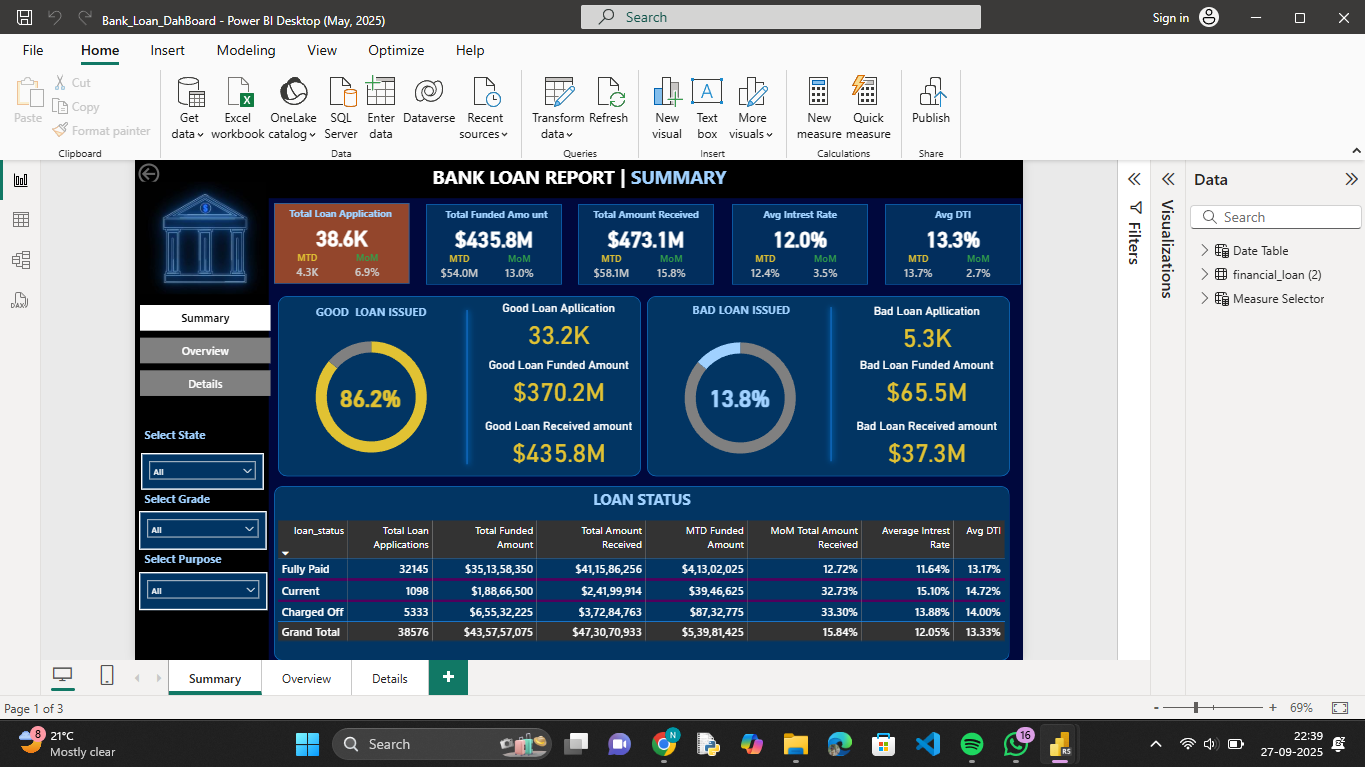

The page's visual inventory and layout, read from the dashboard file:
{"tool":"powerbi","page":{"name":"Summary","canvas":[1280,720],"ordinal":0},"visuals":[{"type":"shape","box":[199.7,62.5,195,116.3],"z":0,"group":"g1"},{"type":"shape","box":[418.8,63,195.5,116.4],"z":0,"group":"g2"},{"type":"shape","box":[637.6,63,195.5,116.4],"z":0,"group":"g4"},{"type":"shape","box":[859.6,63,195.5,116.4],"z":0,"group":"g5"},{"type":"shape","box":[1080.1,63,195.5,116.4],"z":0,"group":"g6"},{"type":"shape","box":[206.2,195.2,522.7,259.8],"z":0},{"type":"shape","box":[0,0,1279.8,55],"z":1000},{"type":"textbox","box":[426.3,63,188.6,28.8],"z":1000,"group":"g2"},{"type":"textbox","box":[638.1,63,195.8,30.2],"z":1000,"group":"g4"},{"type":"textbox","box":[860.1,63,195.8,30.2],"z":1000,"group":"g5"},{"type":"textbox","box":[1080,63,195.8,28.8],"z":1000,"group":"g6"},{"type":"textbox","box":[197.2,63.2,197.3,28.8],"z":1000,"group":"g1"},{"type":"shape","box":[0,54.6,192.6,665.8],"z":2000},{"type":"card","fields":{"Values":["financial_loan (2).Total Loan Applications"]},"box":[199.7,90.8,195,40.2],"z":2000,"group":"g1"},{"type":"card","fields":{"Values":["financial_loan (2).Total Funded Amount"]},"box":[418.8,91.4,195.5,40.3],"z":2000,"group":"g2"},{"type":"card","fields":{"Values":["financial_loan (2).Total Amount Received"]},"box":[637.6,91.4,195.5,40.3],"z":2000,"group":"g4"},{"type":"card","fields":{"Values":["financial_loan (2).Average Intrest Rate"]},"box":[859.6,91.4,195.5,40.3],"z":2000,"group":"g5"},{"type":"card","fields":{"Values":["financial_loan (2).Avg DTI"]},"box":[1080.1,91.4,195.5,40.3],"z":2000,"group":"g6"},{"type":"textbox","box":[401.9,0,476.2,50],"z":3000},{"type":"card","title":"MTD","fields":{"Values":["financial_loan (2).MTD Loan Application"]},"box":[211.6,131.1,72.9,47.7],"z":3000,"group":"g1"},{"type":"card","title":"MTD","fields":{"Values":["financial_loan (2).MTD Funded Amount"]},"box":[430.7,131.7,73.1,47.8],"z":3000,"group":"g2"},{"type":"card","title":"MTD","fields":{"Values":["financial_loan (2).MTD Total Amount Received"]},"box":[649.5,131.7,73.1,47.8],"z":3000,"group":"g4"},{"type":"card","title":"MTD","fields":{"Values":["financial_loan (2).MTD Avg Intrest Rate"]},"box":[871.5,131.7,73.1,47.8],"z":3000,"group":"g5"},{"type":"card","title":"MTD","fields":{"Values":["financial_loan (2).MTD Avg DTI"]},"box":[1092,131.7,73.1,47.8],"z":3000,"group":"g6"},{"type":"group","id":"g1","title":"Group 2","box":[197.2,62.5,197.5,116.3],"z":4000},{"type":"card","title":"MoM","fields":{"Values":["financial_loan (2).MOM Loan Application"]},"box":[297.9,131.1,72.9,47.7],"z":4000,"group":"g1"},{"type":"card","title":"MoM","fields":{"Values":["financial_loan (2).MoM Total Funded Amount"]},"box":[517.3,131.7,73.1,47.8],"z":4000,"group":"g2"},{"type":"card","title":"MoM","fields":{"Values":["financial_loan (2).MoM Total Amount Received"]},"box":[736.1,131.7,73.1,47.8],"z":4000,"group":"g4"},{"type":"card","title":"MoM","fields":{"Values":["financial_loan (2).MoM Avg Intrest Rate"]},"box":[958.1,131.7,73.1,47.8],"z":4000,"group":"g5"},{"type":"card","title":"MoM","fields":{"Values":["financial_loan (2).MoM Avg DTI"]},"box":[1178.6,131.7,73.1,47.8],"z":4000,"group":"g6"},{"type":"group","id":"g2","title":"Group 1","box":[418.8,63,196.1,116.4],"z":4001,"group":"g3"},{"type":"group","id":"g3","title":"Group 2","box":[418.8,63,196.1,116.4],"z":5000},{"type":"group","id":"g4","title":"Group 1","box":[637.6,63,196.4,116.4],"z":6000},{"type":"group","id":"g5","title":"Group 1","box":[859.6,63,196.4,116.4],"z":7000},{"type":"group","id":"g6","title":"Group 1","box":[1080,63,195.8,116.4],"z":8000},{"type":"shape","box":[736.8,195.2,522.7,259.8],"z":9000},{"type":"card","fields":{"Values":["Date Table.Good Loan %"]},"box":[272.7,321.3,133.7,39.9],"z":10000},{"type":"donutChart","fields":{"Category":["financial_loan (2).Good vs Bad Loans"],"Y":["financial_loan (2).Total Loan Applications"]},"box":[215.4,236.2,248.4,210.1],"z":11000},{"type":"textbox","box":[213.3,203,254.5,32.4],"z":12000},{"type":"actionButton","box":[0,0,100,40],"z":13000},{"type":"card","title":"Good Loan Apllication","fields":{"Values":["financial_loan (2).Good Loan Application"]},"box":[498.5,203.2,224,72.9],"z":14000},{"type":"card","title":"Good Loan Funded Amount","fields":{"Values":["Date Table.Good Loan Funded Amount"]},"box":[498.5,284.8,224,72.9],"z":15000},{"type":"card","title":"Good Loan Received amount","fields":{"Values":["Date Table.Good Loan Received Amount"]},"box":[498.5,373.4,224,72.9],"z":16000},{"type":"shape","box":[451.6,206.7,52.1,239.7],"z":17000},{"type":"card","fields":{"Values":["Date Table.Bad Loan %"]},"box":[804.1,321.3,133.7,39.9],"z":18000},{"type":"donutChart","fields":{"Category":["financial_loan (2).Good vs Bad Loans"],"Y":["financial_loan (2).Total Loan Applications"]},"box":[746.8,237.9,248.4,210.1],"z":19000},{"type":"textbox","box":[746.8,199.7,251.8,38.2],"z":20000},{"type":"card","title":"Bad Loan Apllication","fields":{"Values":["financial_loan (2).Bad Loan Application"]},"box":[1028.2,206.7,224,72.9],"z":21000},{"type":"card","title":"Bad Loan Funded Amount","fields":{"Values":["Date Table.Bad Loan Funded Amount"]},"box":[1028.2,284.8,224,72.9],"z":22000},{"type":"card","title":"Bad Loan Received amount","fields":{"Values":["Date Table.Bad Loan Received Amount"]},"box":[1028.2,373.4,224,72.9],"z":23000},{"type":"shape","box":[976.1,203.2,52.1,239.7],"z":24000},{"type":"shape","box":[199.7,468.9,1059.4,251.8],"z":25000},{"type":"tableEx","fields":{"Values":["financial_loan (2).loan_status","financial_loan (2).Total Loan Applications","financial_loan (2).Total Funded Amount","financial_loan (2).Total Amount Received","financial_loan (2).MTD Funded Amount","financial_loan (2).MoM Total Amount Received","financial_loan (2).Average Intrest Rate","financial_loan (2).Avg DTI"]},"box":[199.7,514.1,1059.4,187.6],"z":26000},{"type":"textbox","box":[199.7,468.9,1059.4,45.2],"z":27000},{"type":"group","id":"g7","title":"Group 3","box":[6.1,380.7,185,267.4],"z":28000},{"type":"image","box":[0,16.7,192.6,189.6],"z":29000},{"type":"pageNavigator","box":[7.6,209.3,188.1,131.9],"z":30000},{"type":"slicer","fields":{"Values":["financial_loan (2).grade"]},"box":[6.4,505.6,183.5,56.1],"z":33000,"group":"g7"},{"type":"slicer","fields":{"Values":["financial_loan (2).purpose"]},"box":[6.1,593.5,185,54.6],"z":33500,"group":"g7"},{"type":"slicer","fields":{"Values":["financial_loan (2).address_state"]},"box":[8.5,423.1,177.4,53.1],"z":34000,"group":"g7"},{"type":"textbox","box":[9.4,559.5,178.3,33.5],"z":34500,"group":"g7"},{"type":"textbox","box":[8.5,380.7,179,37.9],"z":35000,"group":"g7"},{"type":"textbox","box":[8.5,473.1,179,37.9],"z":35500,"group":"g7"}]}

Visuals, with their boxes on the page's 1280x720 design canvas (x1, y1, x2, y2). These are canvas units, not pixel positions in the 1365x767 screenshot, which may show the page scaled, cropped or inside an application window:
shape: rect(200, 62, 395, 179)
shape: rect(419, 63, 614, 179)
shape: rect(638, 63, 833, 179)
shape: rect(860, 63, 1055, 179)
shape: rect(1080, 63, 1276, 179)
shape: rect(206, 195, 729, 455)
shape: rect(0, 0, 1280, 55)
textbox: rect(426, 63, 615, 92)
textbox: rect(638, 63, 834, 93)
textbox: rect(860, 63, 1056, 93)
textbox: rect(1080, 63, 1276, 92)
textbox: rect(197, 63, 394, 92)
shape: rect(0, 55, 193, 720)
card - financial_loan (2).Total Loan Applications: rect(200, 91, 395, 131)
card - financial_loan (2).Total Funded Amount: rect(419, 91, 614, 132)
card - financial_loan (2).Total Amount Received: rect(638, 91, 833, 132)
card - financial_loan (2).Average Intrest Rate: rect(860, 91, 1055, 132)
card - financial_loan (2).Avg DTI: rect(1080, 91, 1276, 132)
textbox: rect(402, 0, 878, 50)
"MTD" card: rect(212, 131, 284, 179)
"MTD" card: rect(431, 132, 504, 180)
"MTD" card: rect(650, 132, 723, 180)
"MTD" card: rect(872, 132, 945, 180)
"MTD" card: rect(1092, 132, 1165, 180)
"Group 2" group: rect(197, 62, 395, 179)
"MoM" card: rect(298, 131, 371, 179)
"MoM" card: rect(517, 132, 590, 180)
"MoM" card: rect(736, 132, 809, 180)
"MoM" card: rect(958, 132, 1031, 180)
"MoM" card: rect(1179, 132, 1252, 180)
"Group 1" group: rect(419, 63, 615, 179)
"Group 2" group: rect(419, 63, 615, 179)
"Group 1" group: rect(638, 63, 834, 179)
"Group 1" group: rect(860, 63, 1056, 179)
"Group 1" group: rect(1080, 63, 1276, 179)
shape: rect(737, 195, 1260, 455)
card - Date Table.Good Loan %: rect(273, 321, 406, 361)
donutChart - financial_loan (2).Good vs Bad Loans x financial_loan (2).Total Loan Applications: rect(215, 236, 464, 446)
textbox: rect(213, 203, 468, 235)
actionButton: rect(0, 0, 100, 40)
"Good Loan Apllication" card: rect(498, 203, 722, 276)
"Good Loan Funded Amount" card: rect(498, 285, 722, 358)
"Good Loan Received amount" card: rect(498, 373, 722, 446)
shape: rect(452, 207, 504, 446)
card - Date Table.Bad Loan %: rect(804, 321, 938, 361)
donutChart - financial_loan (2).Good vs Bad Loans x financial_loan (2).Total Loan Applications: rect(747, 238, 995, 448)
textbox: rect(747, 200, 999, 238)
"Bad Loan Apllication" card: rect(1028, 207, 1252, 280)
"Bad Loan Funded Amount" card: rect(1028, 285, 1252, 358)
"Bad Loan Received amount" card: rect(1028, 373, 1252, 446)
shape: rect(976, 203, 1028, 443)
shape: rect(200, 469, 1259, 721)
tableEx - financial_loan (2).loan_status x financial_loan (2).Total Loan Applications: rect(200, 514, 1259, 702)
textbox: rect(200, 469, 1259, 514)
"Group 3" group: rect(6, 381, 191, 648)
image: rect(0, 17, 193, 206)
pageNavigator: rect(8, 209, 196, 341)
slicer - financial_loan (2).grade: rect(6, 506, 190, 562)
slicer - financial_loan (2).purpose: rect(6, 594, 191, 648)
slicer - financial_loan (2).address_state: rect(8, 423, 186, 476)
textbox: rect(9, 560, 188, 593)
textbox: rect(8, 381, 188, 419)
textbox: rect(8, 473, 188, 511)
